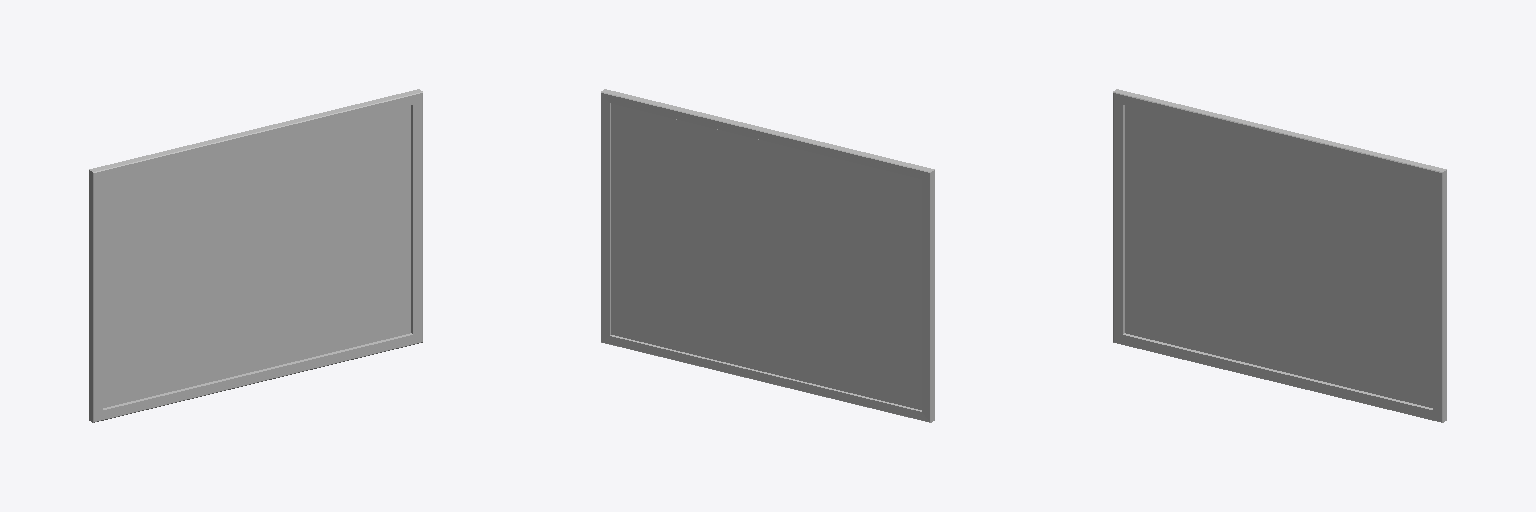
File: A0_Landscape.obj
3 renders of one model, left to right at view 1: azimuth 30°, elevation 25°; view 2: azimuth 150°, elevation 25°; view 3: azimuth 330°, elevation 25°, orthographic.
Visible parts, largest first — view 1: A0_Landscape.obj; view 2: A0_Landscape.obj; view 3: A0_Landscape.obj.
Part boxes in pixels (x1,y1,x2,y2): A0_Landscape.obj: (89, 89, 422, 422); A0_Landscape.obj: (601, 89, 934, 422); A0_Landscape.obj: (1113, 89, 1446, 422).
Bounding box in the file's own units: 1.26 × 0.9158 × 0.0298.